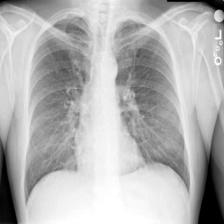normal: (16, 10, 191, 205)
